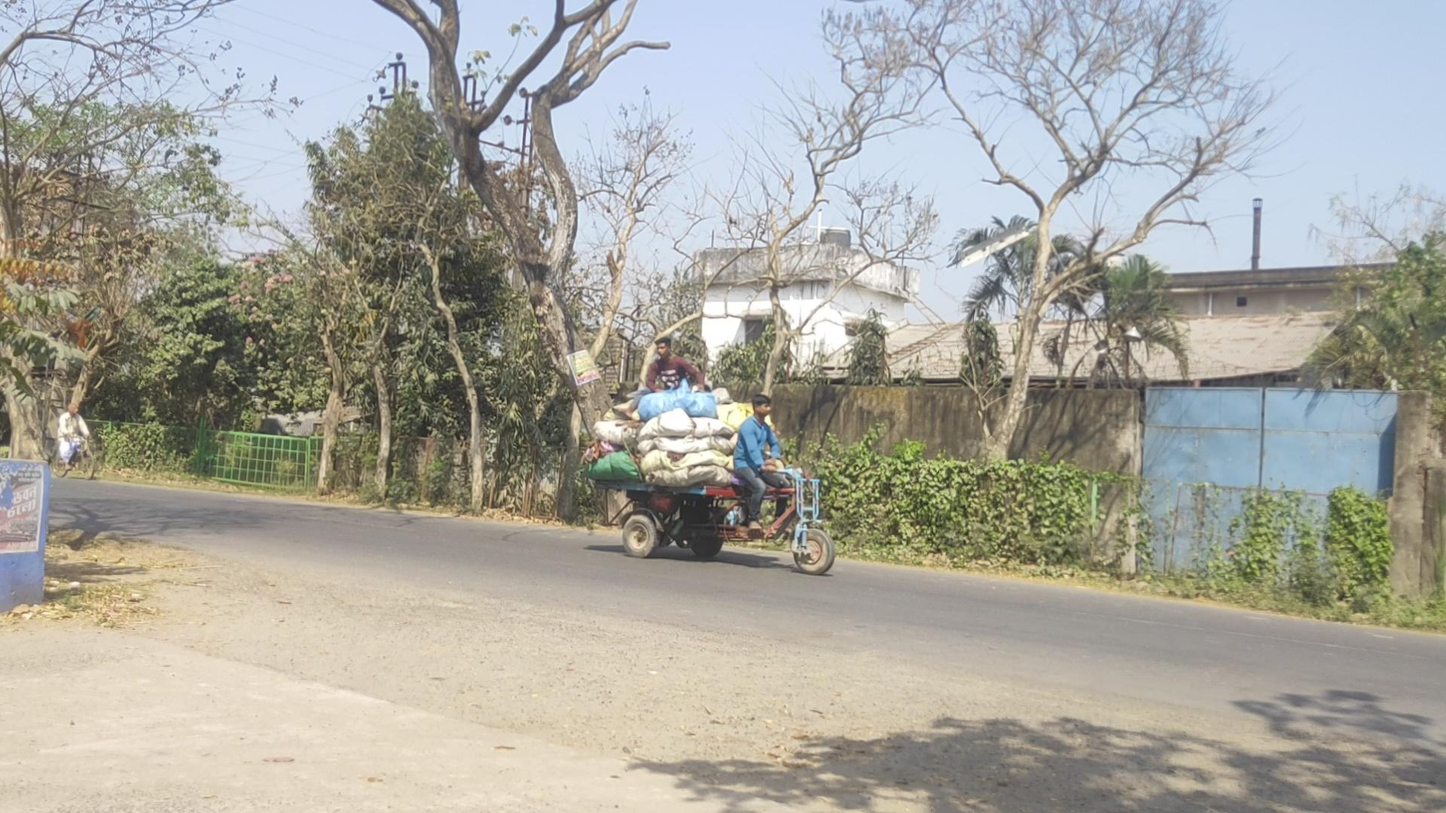bike: (51, 403, 96, 481)
